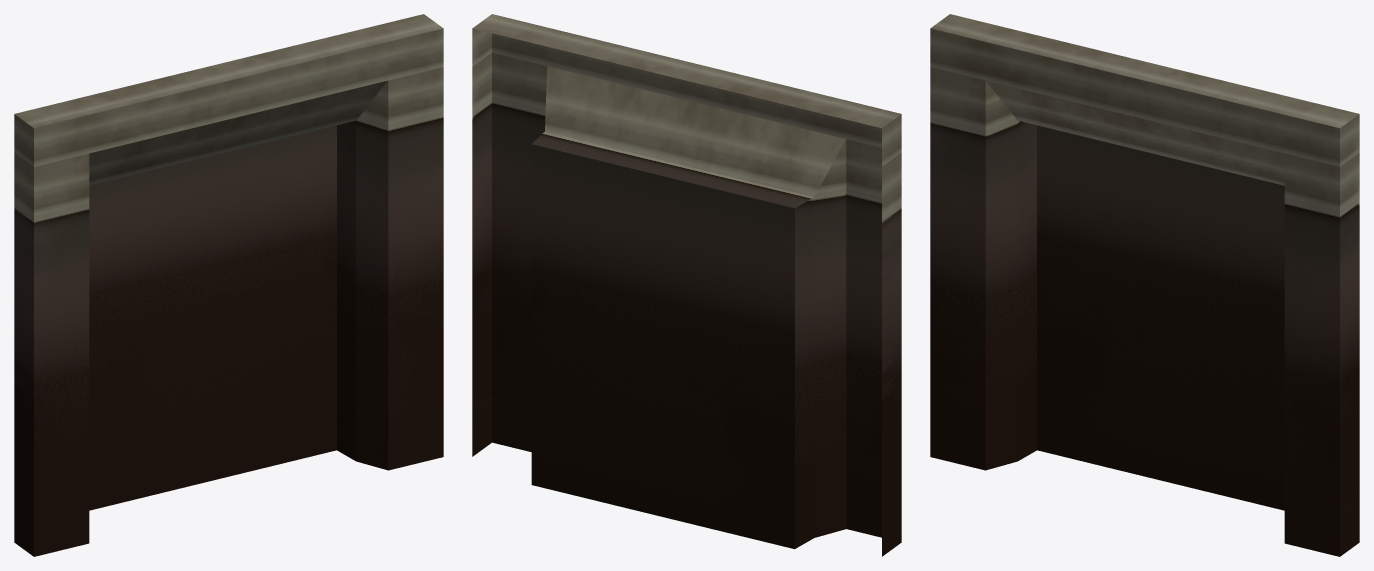
File: Tower_nowindow.fbx
The picture shows the model from 3 angles, left to right: view 1: azimuth 30°, elevation 25°; view 2: azimuth 150°, elevation 25°; view 3: azimuth 330°, elevation 25°; orthographic projection.
Visible parts, largest first — view 1: nowindow; view 2: nowindow; view 3: nowindow.
Part boxes in pixels (x1,y1,x2,y2): nowindow: [14, 14, 443, 556]; nowindow: [472, 14, 901, 556]; nowindow: [930, 14, 1359, 556].
Bounding box in the file's own units: 400 × 400 × 56.81.
